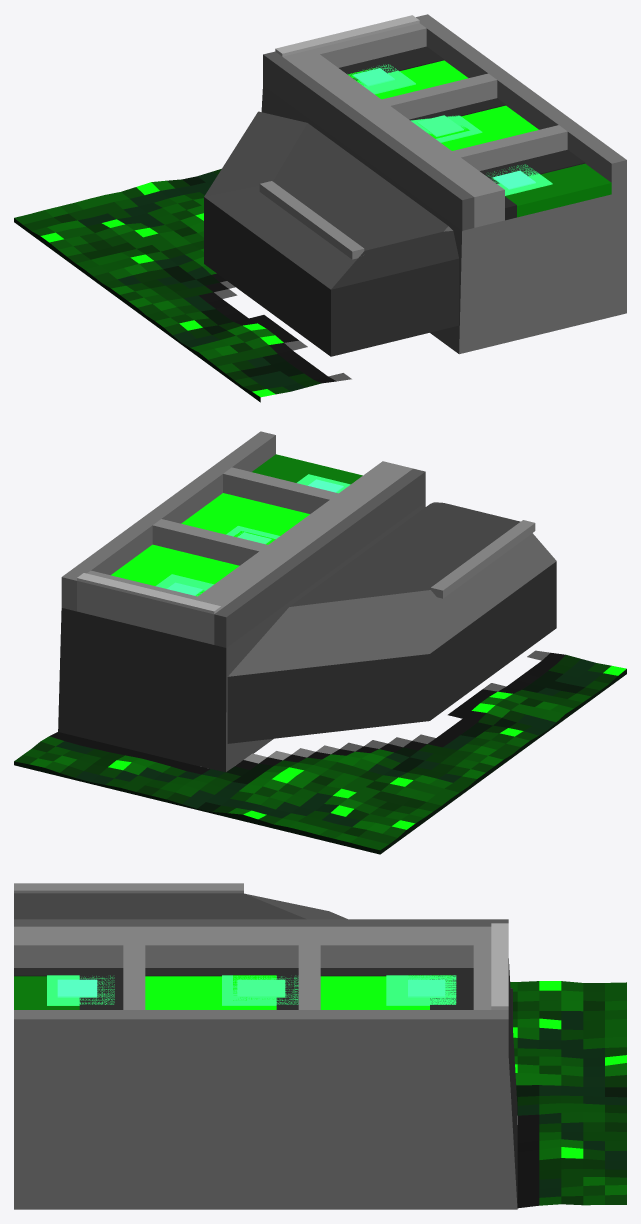
File: newshj-5.glb
3 views of the same model, one above another, from view 1: azimuth 30°, elevation 25°; view 2: azimuth 150°, elevation 25°; view 3: azimuth 270°, elevation 25° (orthographic). The views are drawn at different scales.
Parts seen in each view (by area): view 1: newshj-5, newshj-5-frame5.001, newshj-5-frame9.001, newshj-5-frame11.001; view 2: newshj-5, newshj-5-frame5.001; view 3: newshj-5, newshj-5-frame5.001, newshj-5-frame9.001, newshj-5-frame11.001.
Boxes of the visible parts, x1,y1,x2,y2 form: newshj-5: [14, 14, 626, 402]; newshj-5-frame5.001: [352, 64, 585, 183]; newshj-5-frame9.001: [339, 46, 482, 142]; newshj-5-frame11.001: [339, 47, 552, 195]; newshj-5: [14, 431, 626, 854]; newshj-5-frame5.001: [155, 531, 275, 596]; newshj-5: [14, 883, 626, 1209]; newshj-5-frame5.001: [79, 968, 456, 1009]; newshj-5-frame9.001: [222, 975, 473, 1009]; newshj-5-frame11.001: [47, 975, 473, 1009].
Bounding box in the file's own units: 2 × 0.815 × 2.33.
